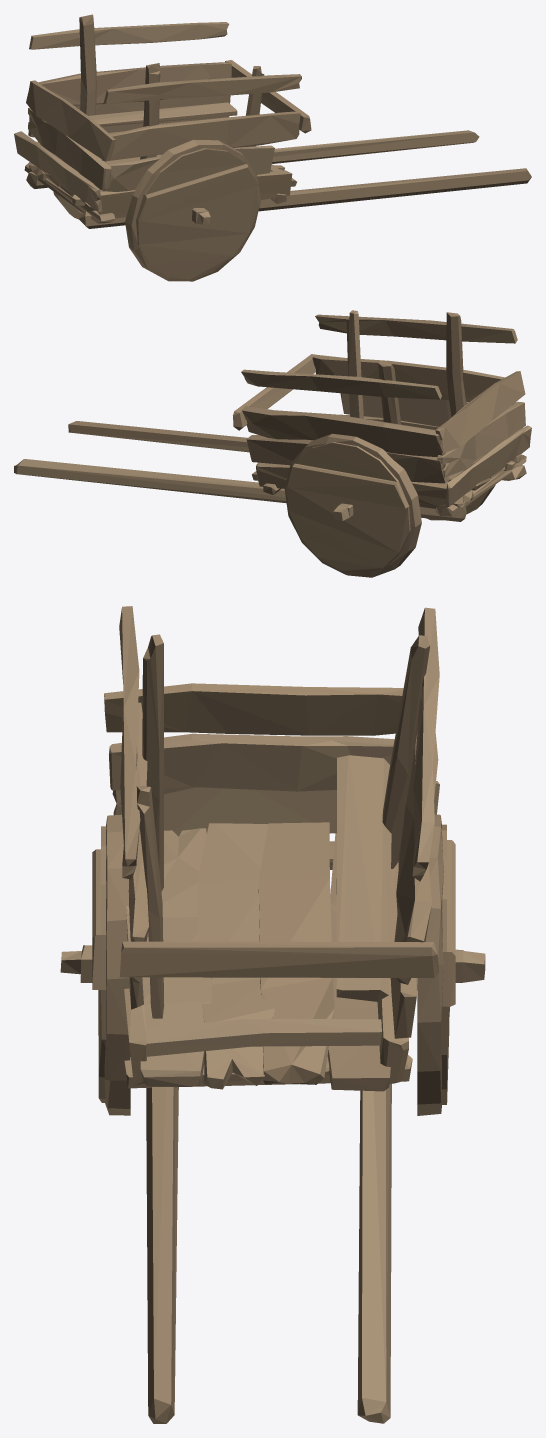
File: prop_wehicule_cart_01.glb
3 views of the same model, one above another, from view 1: azimuth 30°, elevation 25°; view 2: azimuth 150°, elevation 25°; view 3: azimuth 270°, elevation 25° (orthographic). The views are drawn at different scales.
Parts seen in each view (by area): view 1: utileria.prop_wehicule_cart_01; view 2: utileria.prop_wehicule_cart_01; view 3: utileria.prop_wehicule_cart_01.
Part boxes in pixels (<box>): utileria.prop_wehicule_cart_01: <box>14,14,531,281</box>; utileria.prop_wehicule_cart_01: <box>14,310,531,577</box>; utileria.prop_wehicule_cart_01: <box>60,606,485,1423</box>.
Size of the model in its own units: 4.12 by 1.9 by 1.69.
